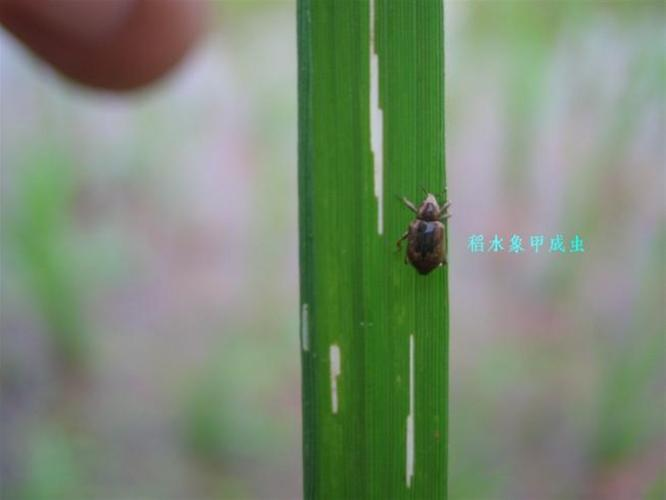Curculionidae: (395, 184, 452, 275)
